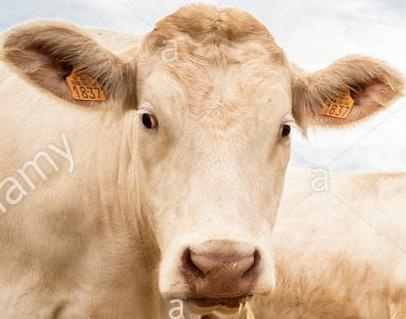muzzles: (156, 234, 275, 309)
